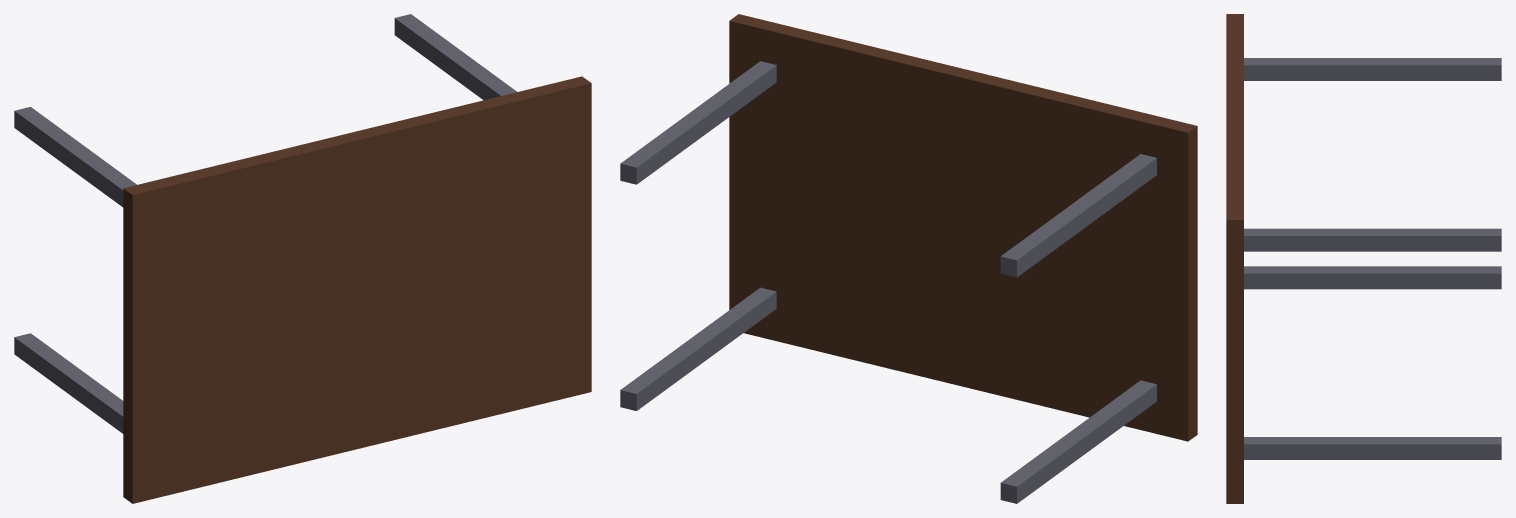
Rendered from table3.obj.
The picture shows the model from 3 angles, left to right: view 1: azimuth 30°, elevation 25°; view 2: azimuth 150°, elevation 25°; view 3: azimuth 270°, elevation 25°; orthographic projection. The views are drawn at different scales.
Parts seen in each view (by area): view 1: table; view 2: table; view 3: table.
Part boxes in pixels (bbox=[...]): table: bbox=[14, 14, 591, 503]; table: bbox=[620, 14, 1197, 503]; table: bbox=[1226, 14, 1501, 503].
Size of the model in its own units: 1.4 by 0.9 by 0.79.
